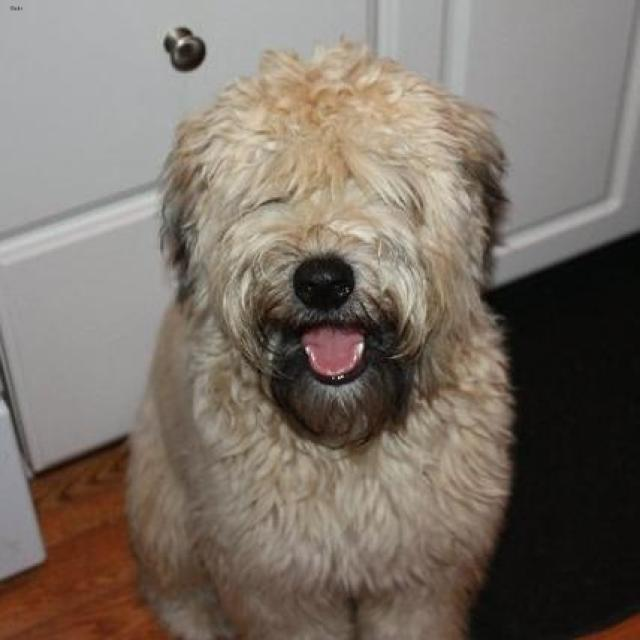dog-wheaten_terrier: (118, 33, 517, 637)
